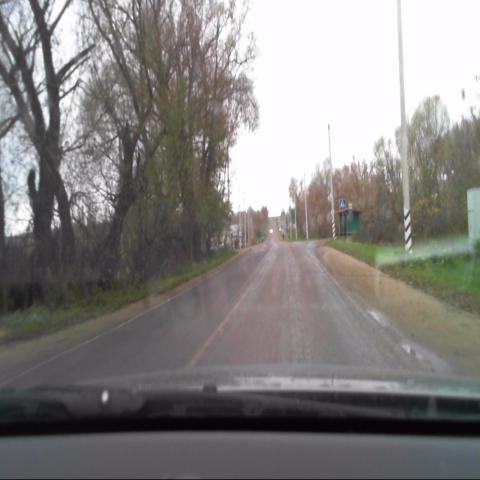5_19_1: (339, 198, 346, 209)
